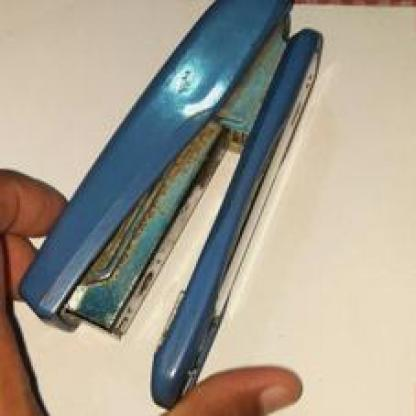stapler: (40, 7, 317, 414)
